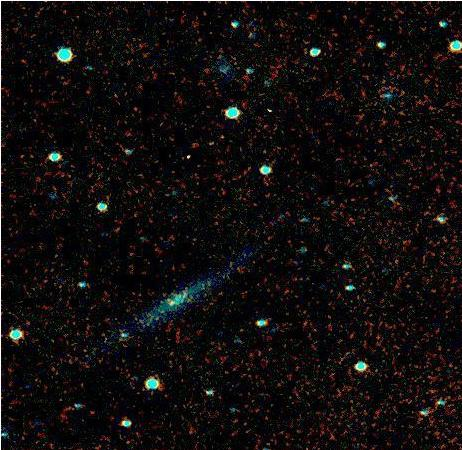star: (157, 288, 187, 318)
